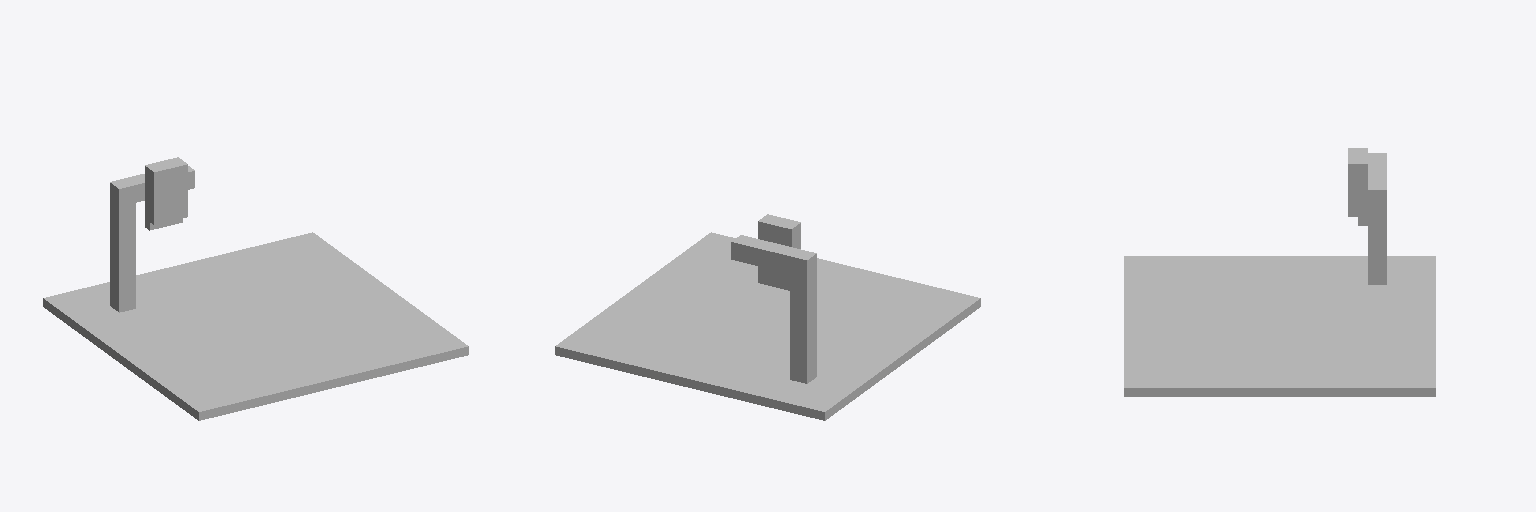
Rendered from cross road.obj.
The picture shows the model from 3 angles: view 1: azimuth 30°, elevation 25°; view 2: azimuth 150°, elevation 25°; view 3: azimuth 270°, elevation 25°; orthographic projection.
Parts seen in each view (by area): view 1: object 1; view 2: object 1; view 3: object 1.
Boxes of the visible parts, x1=… form: object 1: x1=43, y1=157, x2=468, y2=420; object 1: x1=555, y1=214, x2=980, y2=420; object 1: x1=1124, y1=148, x2=1435, y2=396.
Bounding box in the file's own units: 3.2 × 1.7 × 3.2.